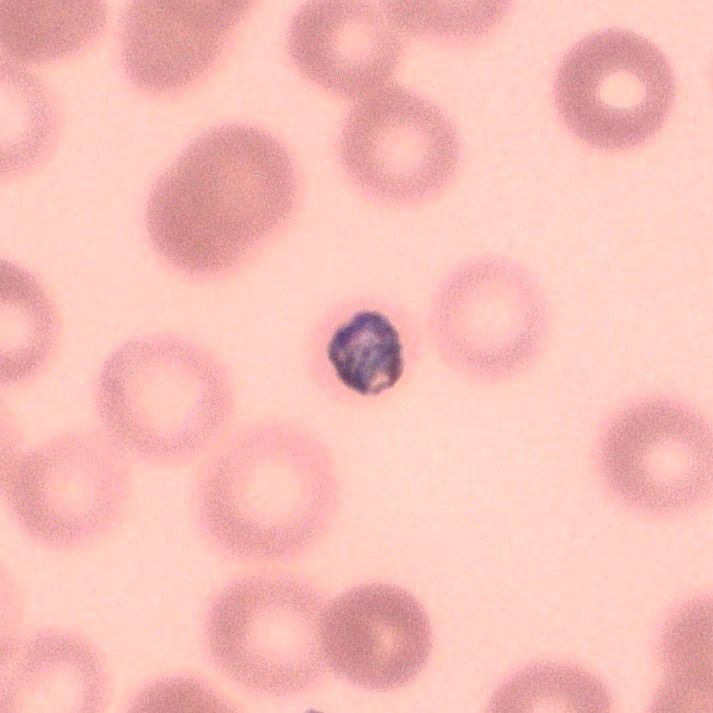Infected: (323, 307, 406, 399)
Uninfected: (152, 121, 298, 272), (202, 424, 346, 565), (100, 337, 238, 463), (428, 257, 549, 388), (557, 27, 678, 150), (203, 581, 328, 693), (17, 427, 132, 545), (340, 87, 454, 200), (315, 584, 431, 693), (600, 406, 713, 510)
